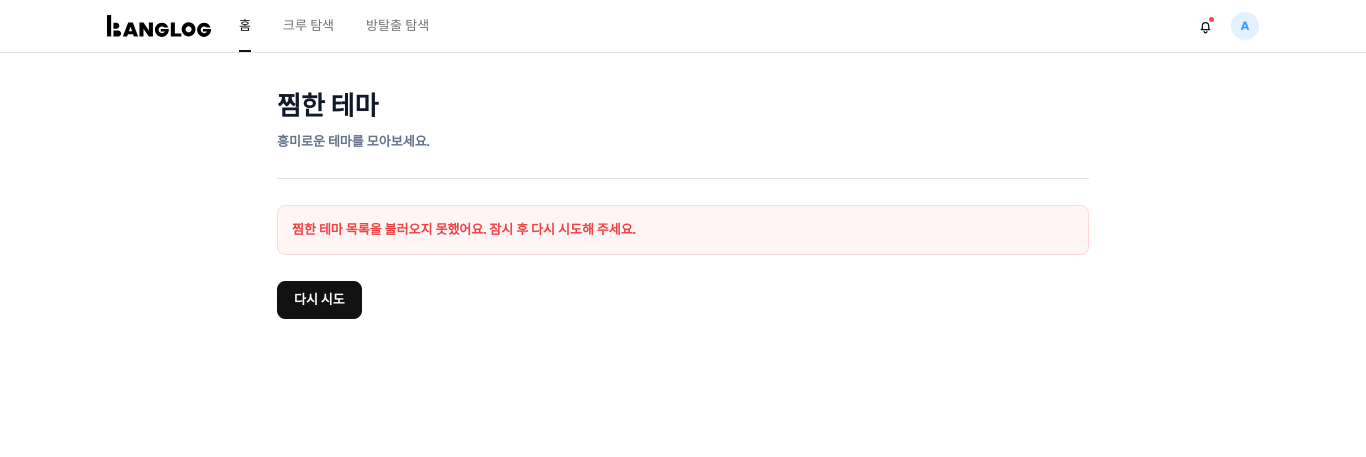
Test: ProfileFavoritesPage › shows a retry affordance when the first load fails
The width and height of the screenshot is (1366, 457).
Expected: the text "찜한 테마 목록을 불러오지 못했어요. 잠시 후 다시 시도해 주세요." is shown, x1=277 y1=205 x2=1089 y2=255
Click the button "다시 시도" at [319, 300], box x1=277 y1=281 x2=362 y2=319
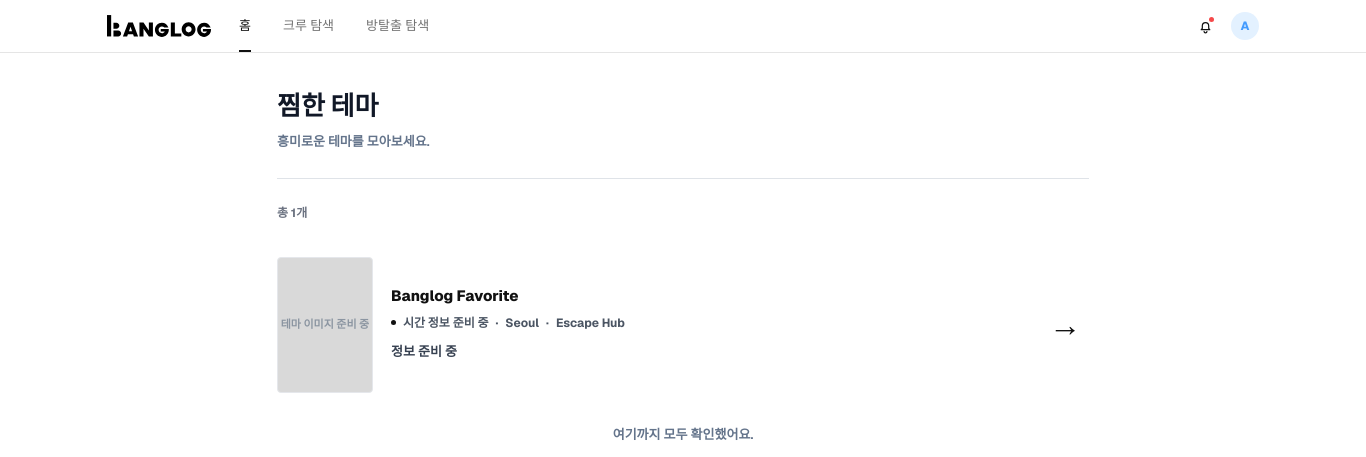
Expected: the text "Banglog Favorite" is shown, x1=391 y1=286 x2=519 y2=306
